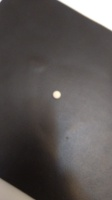Yuvarlak Buskopan: (52, 90, 62, 99)
